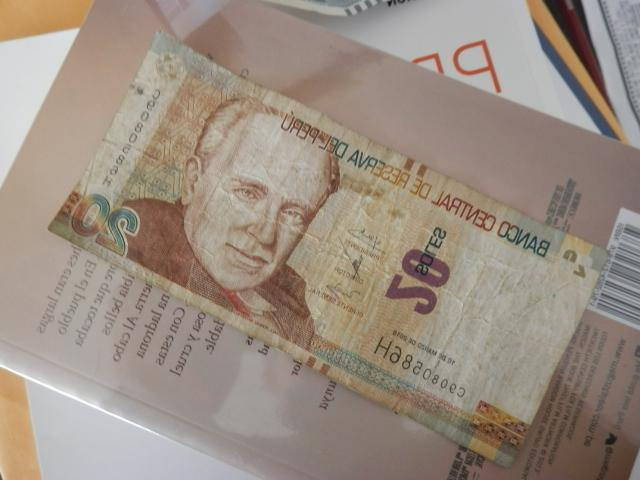B20: (45, 29, 614, 467)
